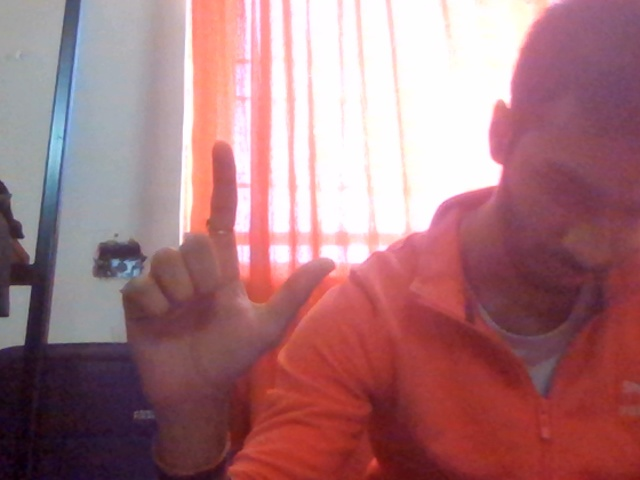L: (84, 111, 361, 444)
